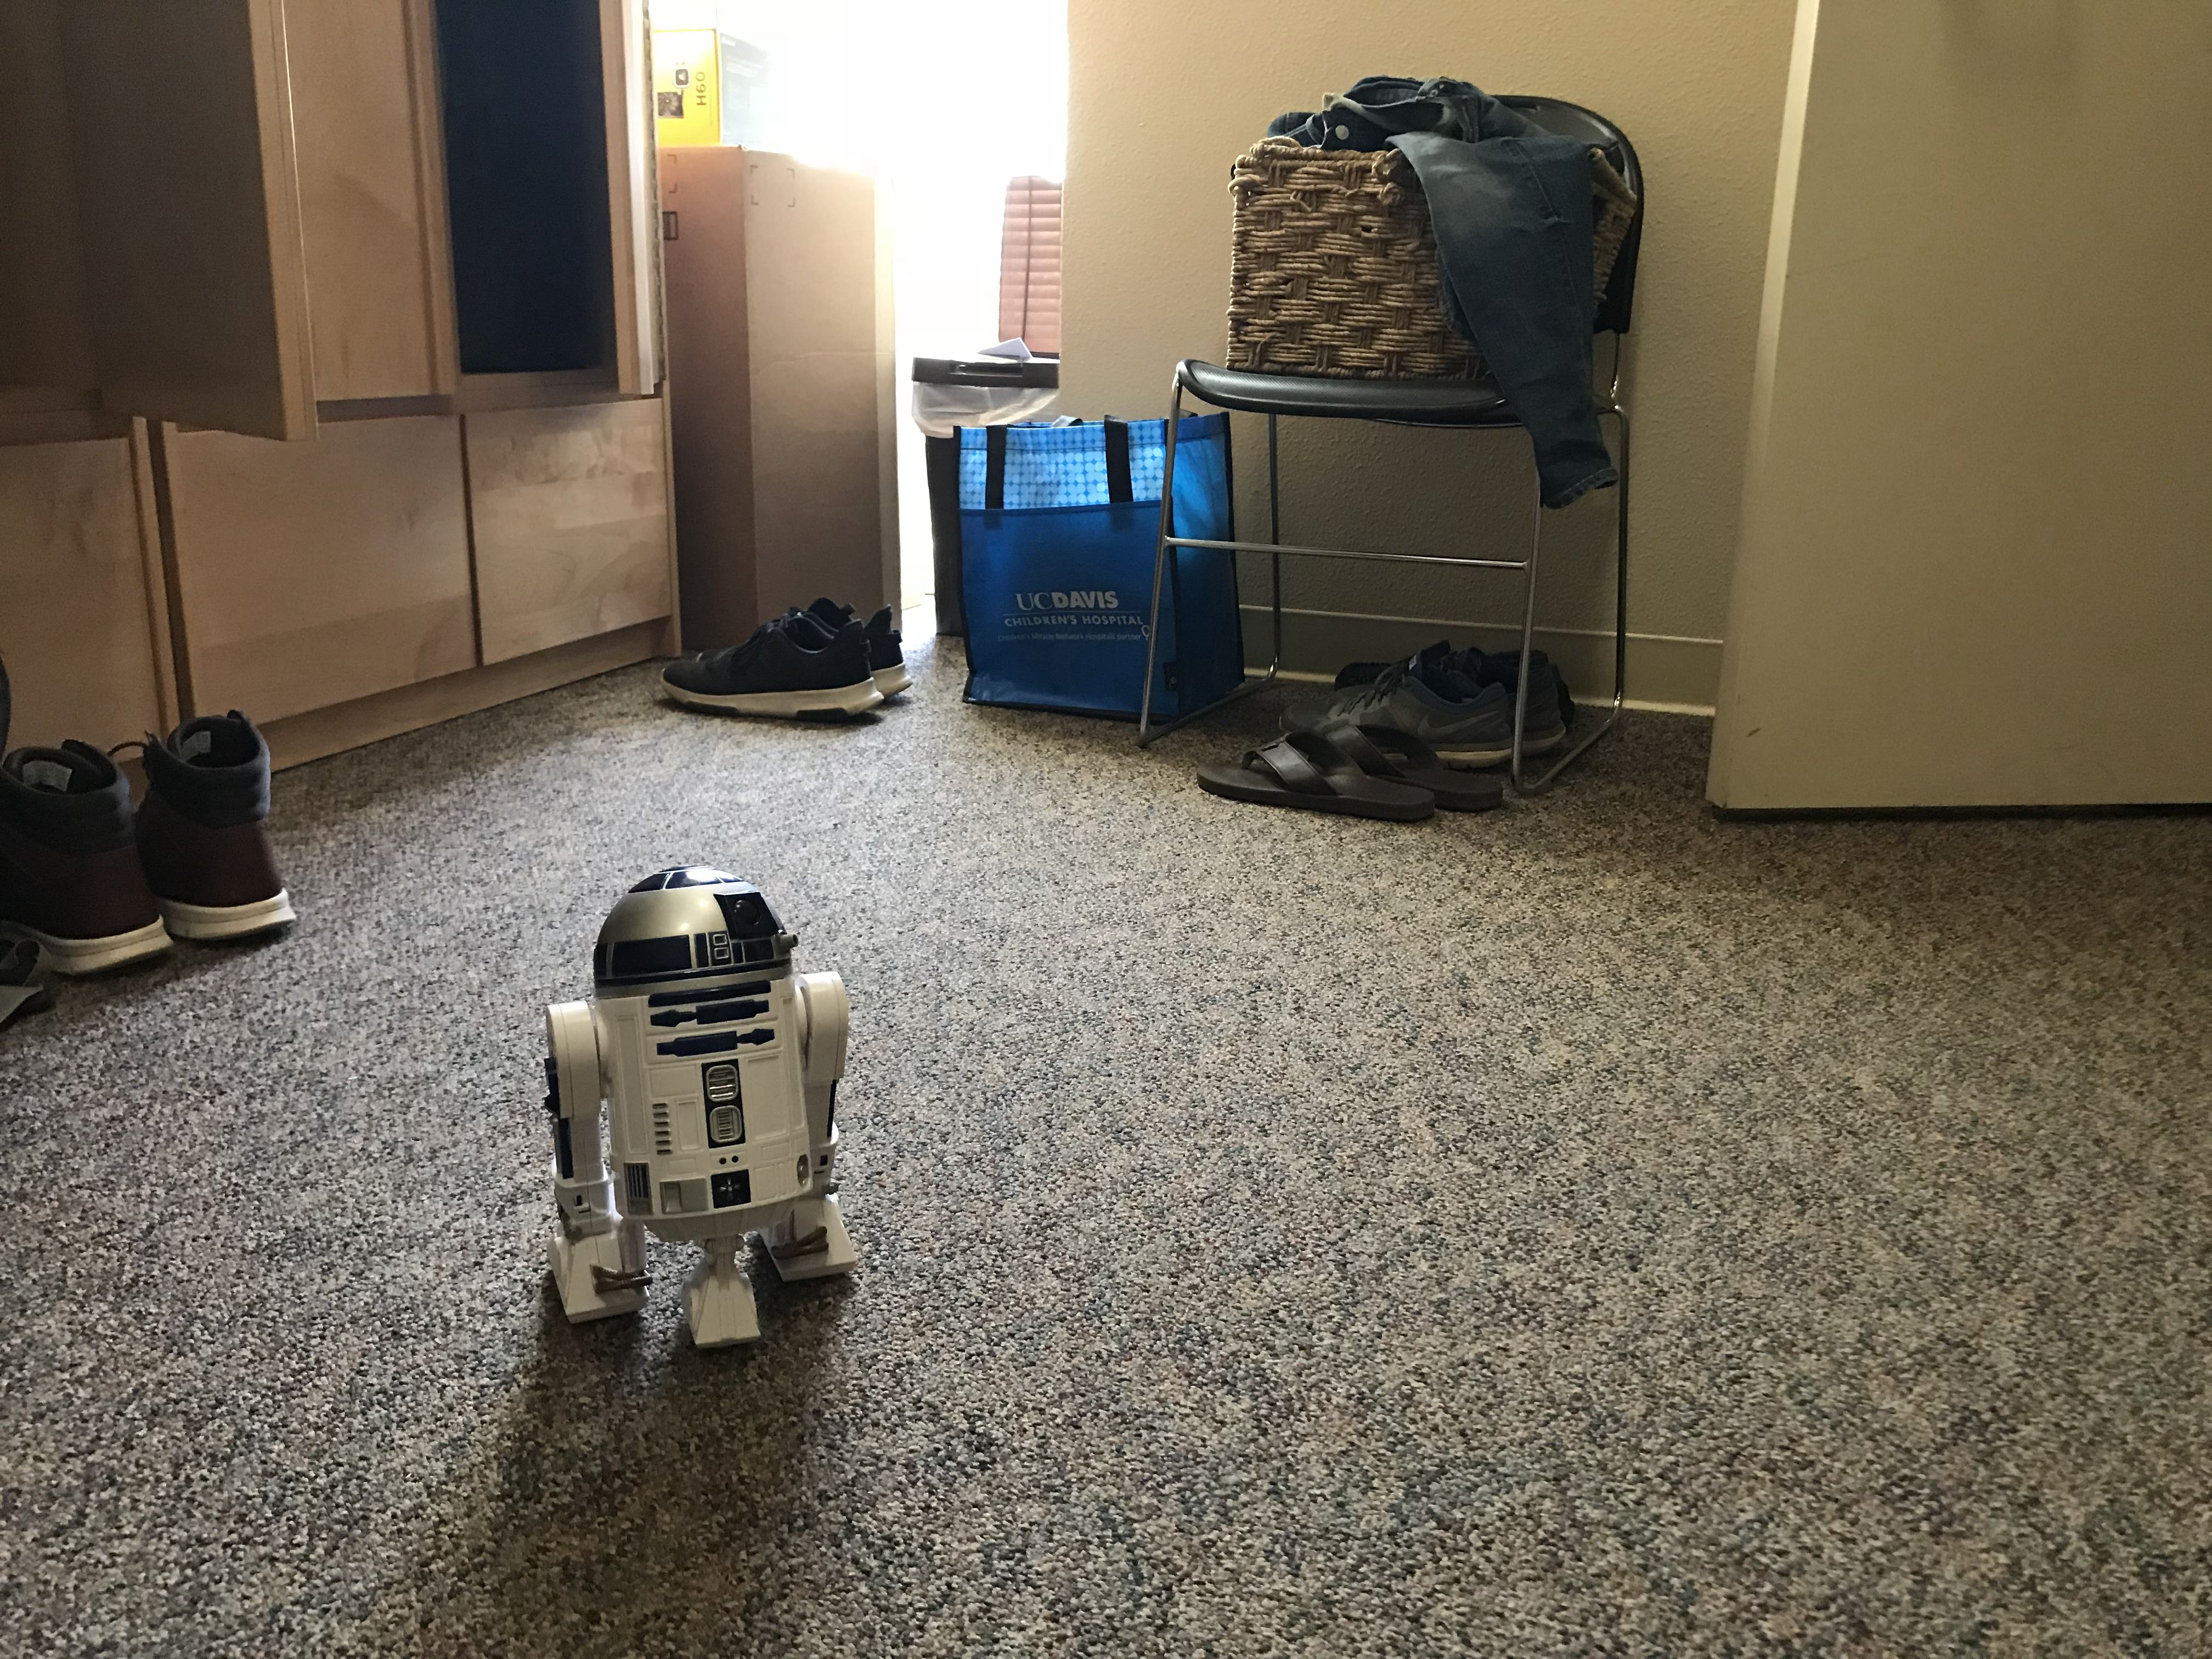r2d2: (549, 870, 859, 1345)
